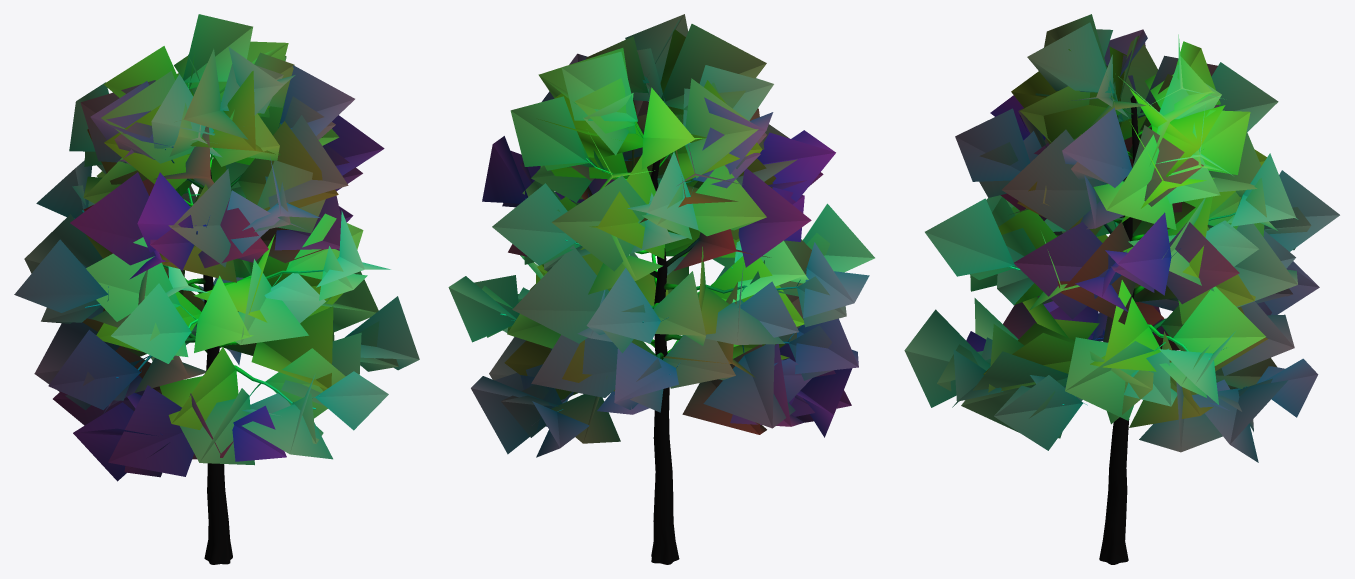
The model's file is beech.obj.
3 renders of one model, left to right at view 1: azimuth 30°, elevation 25°; view 2: azimuth 150°, elevation 25°; view 3: azimuth 270°, elevation 25°, orthographic. The views are drawn at different scales.
Parts seen in each view (by area): view 1: tree; view 2: tree; view 3: tree.
Boxes of the visible parts, x1,y1,x2,y2 form: tree: (14,14,419,564); tree: (448,14,874,564); tree: (904,14,1339,564).
Bounding box in the file's own units: 194 × 263 × 194.
